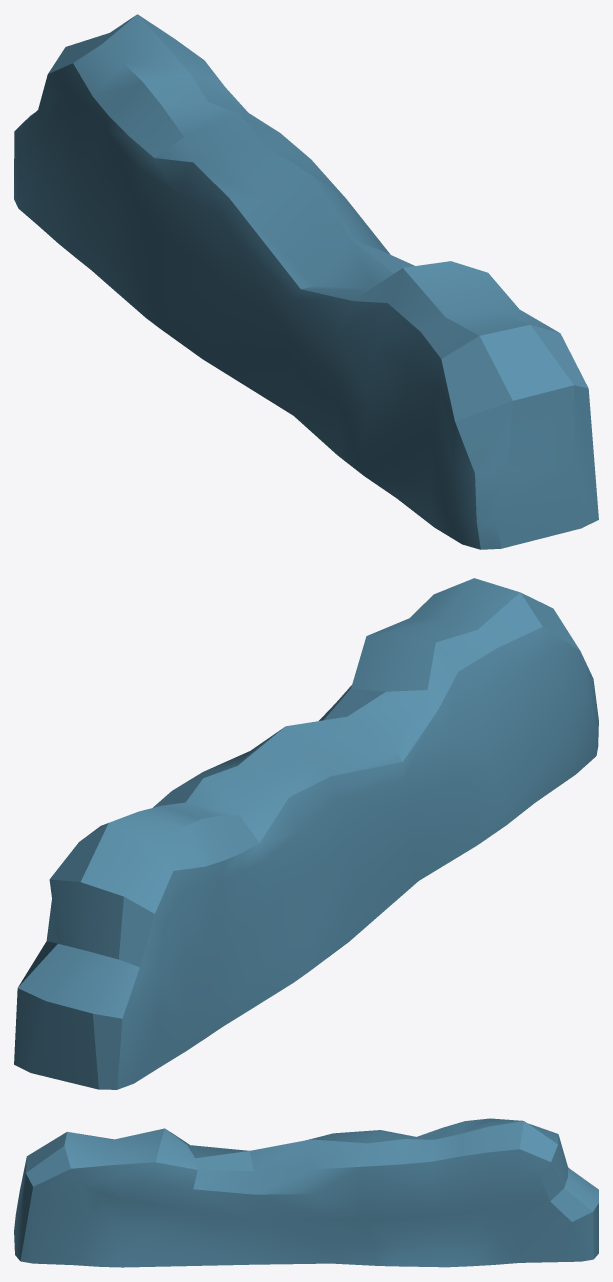
Rendered from GJ_Decor_Wall_03.fbx.
3 renders of one model, top to bottom at view 1: azimuth 30°, elevation 25°; view 2: azimuth 150°, elevation 25°; view 3: azimuth 270°, elevation 25°, orthographic. The views are drawn at different scales.
Parts seen in each view (by area): view 1: GJ_Decor_Wall_03; view 2: GJ_Decor_Wall_03; view 3: GJ_Decor_Wall_03.
Part boxes in pixels (left/top/right/bottom): GJ_Decor_Wall_03: left=14, top=14, right=598, bottom=549; GJ_Decor_Wall_03: left=14, top=578, right=598, bottom=1089; GJ_Decor_Wall_03: left=14, top=1118, right=598, bottom=1267.
Size of the model in its own units: 4.82 by 6.31 by 26.22.
